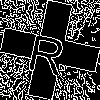R: (25, 25, 70, 77)
